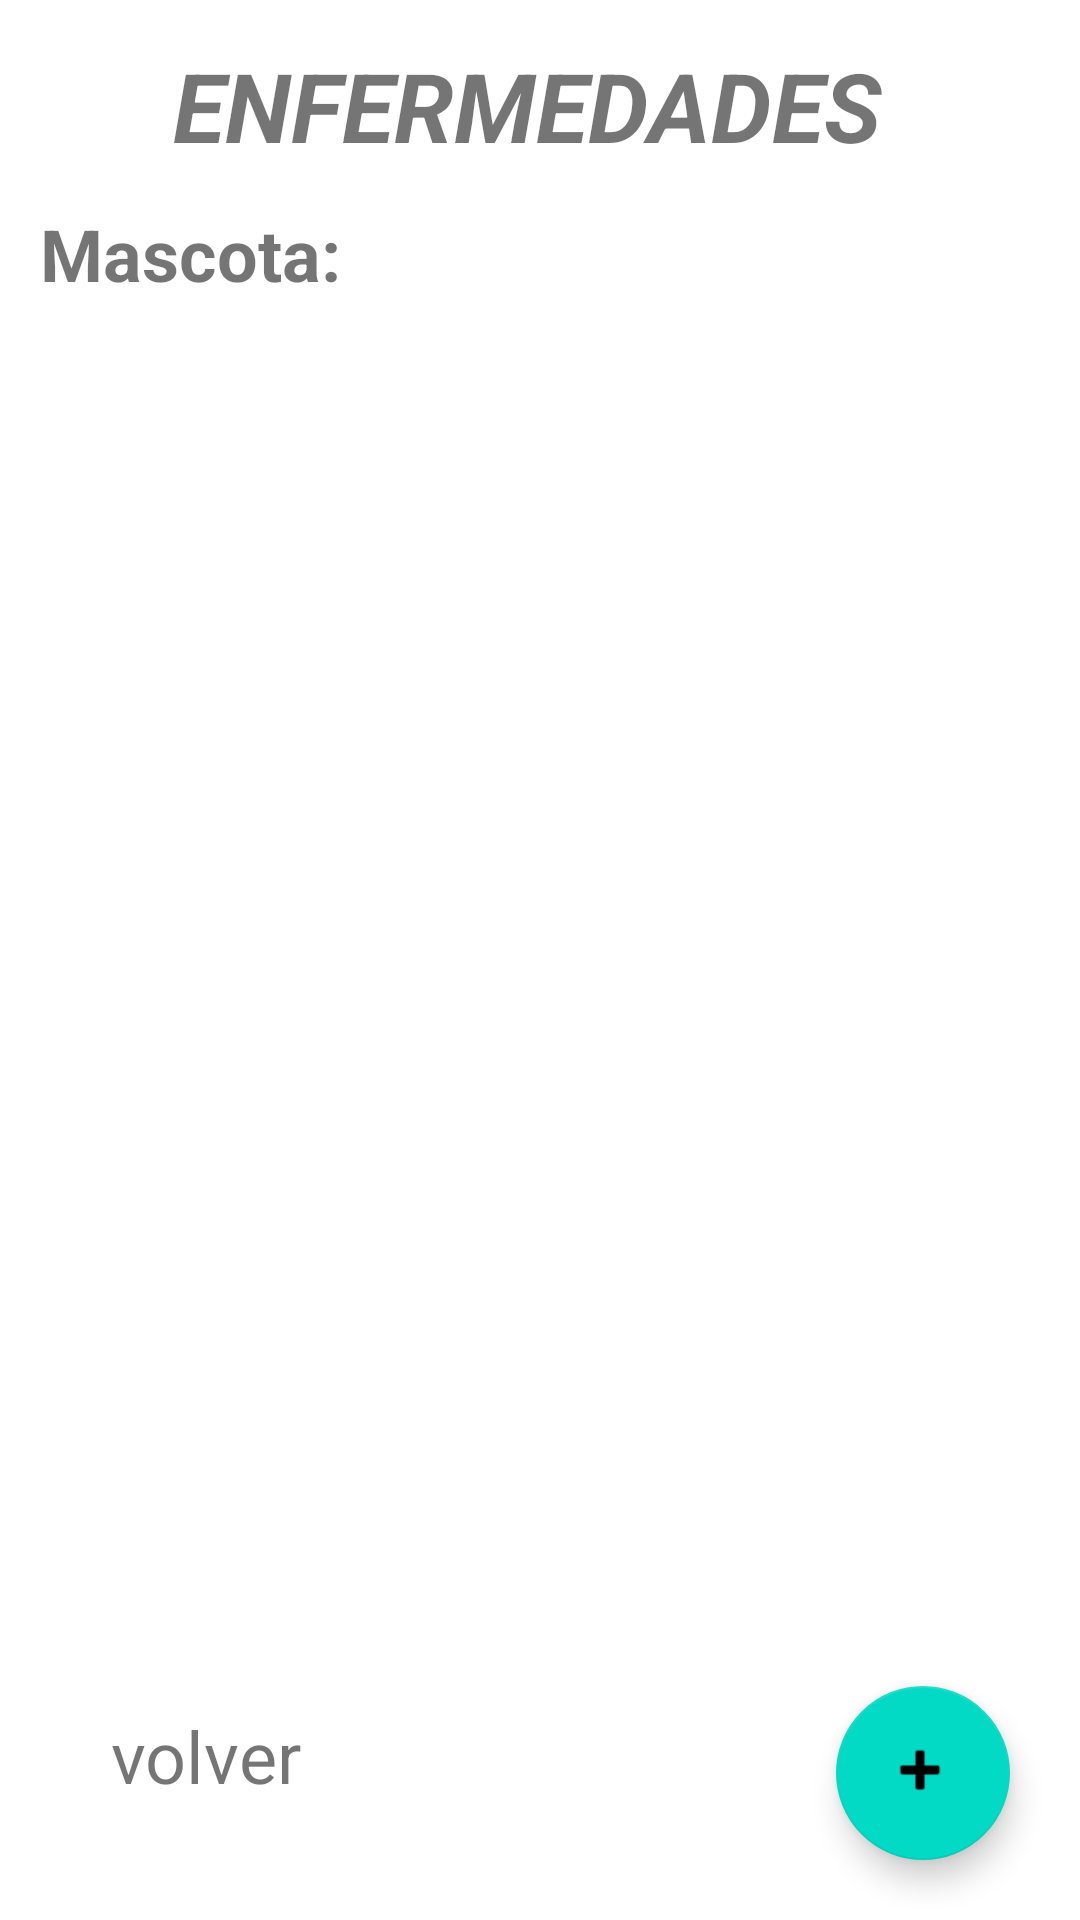

Locate icon controls on the screen. Image size 1080 x 1920, boxes as (x1, y1, x2, y2).
add: (836, 1686, 1010, 1860)
